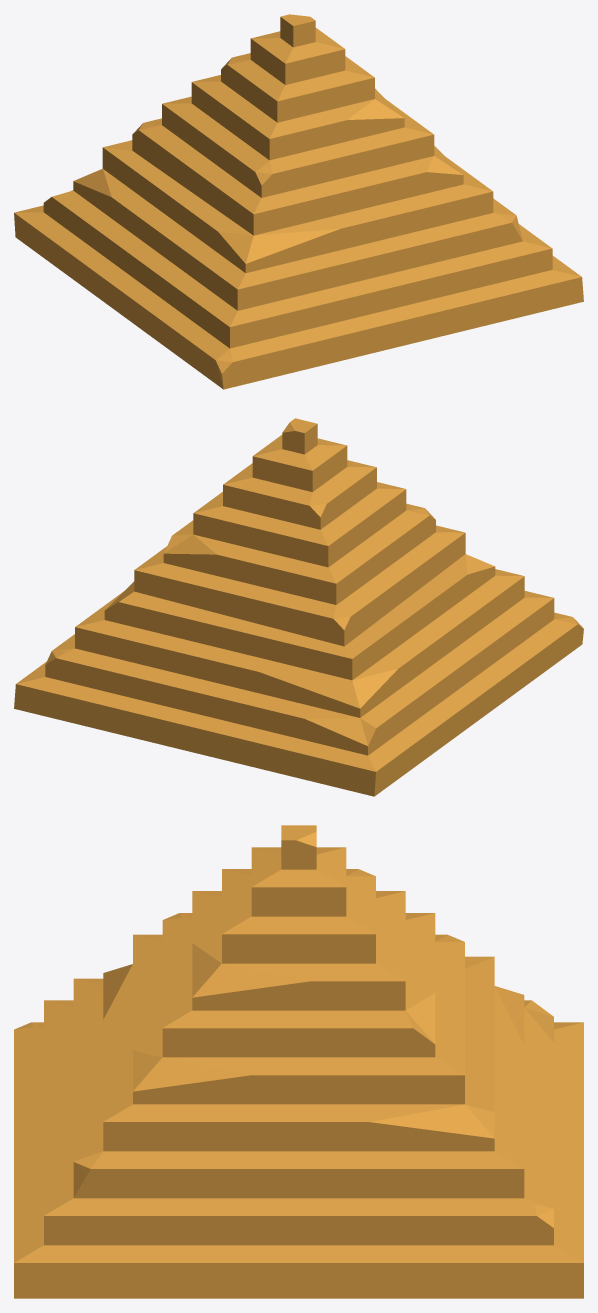
Rendered from pyramid-old.fbx.
3 renders of one model, top to bottom at view 1: azimuth 30°, elevation 25°; view 2: azimuth 150°, elevation 25°; view 3: azimuth 270°, elevation 25°, orthographic. The views are drawn at different scales.
Parts seen in each view (by area): view 1: pyramid-old; view 2: pyramid-old; view 3: pyramid-old.
Boxes of the visible parts, x1=… form: pyramid-old: x1=14, y1=14, x2=583, y2=389; pyramid-old: x1=14, y1=418, x2=583, y2=796; pyramid-old: x1=14, y1=825, x2=583, y2=1298.
Size of the model in its own units: 60.27 by 39.98 by 60.
